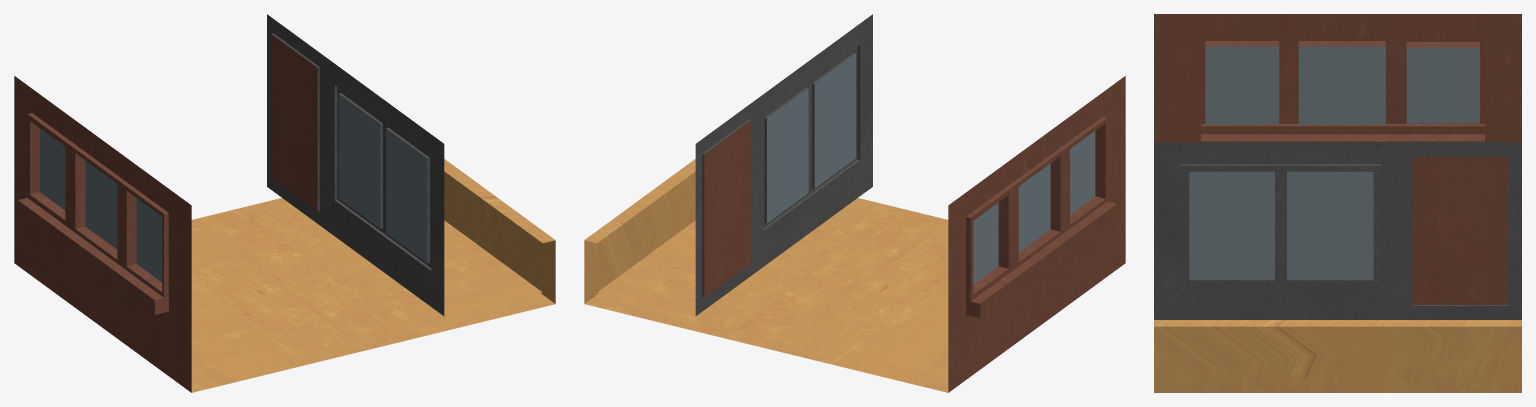
File: hdb unit.fbx
3 views of the same model, side by side, from view 1: azimuth 30°, elevation 25°; view 2: azimuth 150°, elevation 25°; view 3: azimuth 270°, elevation 25° (orthographic). The views are drawn at different scales.
Parts seen in each view (by area): view 1: pCube95; view 2: pCube95; view 3: pCube95.
Part boxes in pixels (x1,y1,x2,y2): pCube95: (14,14,555,392); pCube95: (584,14,1125,392); pCube95: (1154,14,1521,392).
Size of the model in its own units: 842 by 399 by 684.
Materials: 2 (1 with a texture image).
